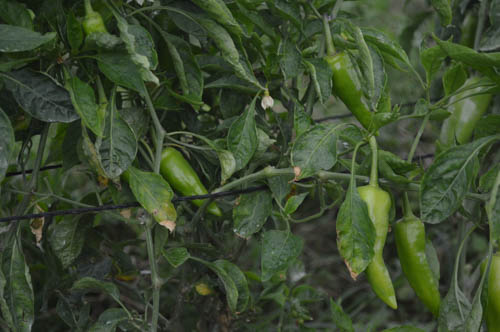ChiliPepper: (351, 186, 397, 309), (159, 145, 220, 215), (398, 219, 440, 311), (445, 85, 490, 160), (329, 53, 374, 120)
